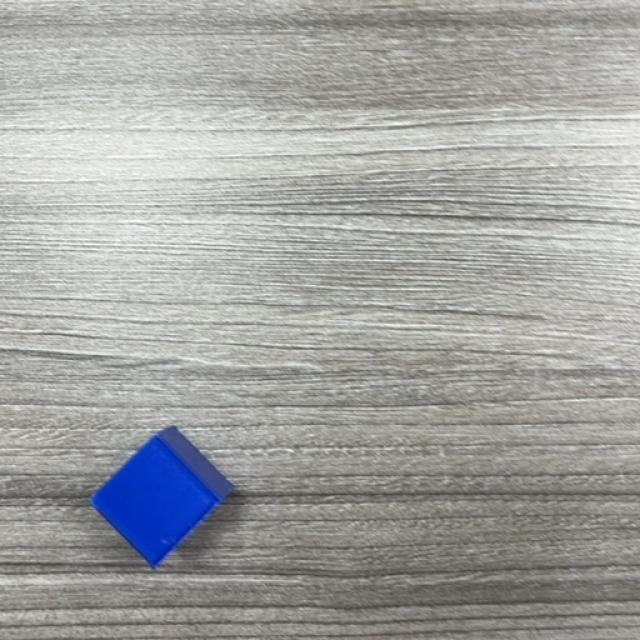Azul: (89, 426, 235, 570)
